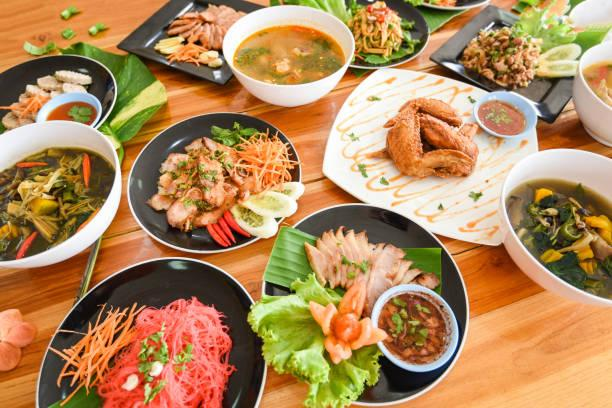Braised Crucian Carp: (266, 204, 468, 405), (339, 65, 535, 244), (37, 258, 260, 407), (126, 113, 296, 253), (1, 120, 122, 267), (429, 4, 580, 121), (498, 147, 608, 306), (107, 3, 269, 90), (223, 3, 350, 106), (1, 53, 116, 132)
